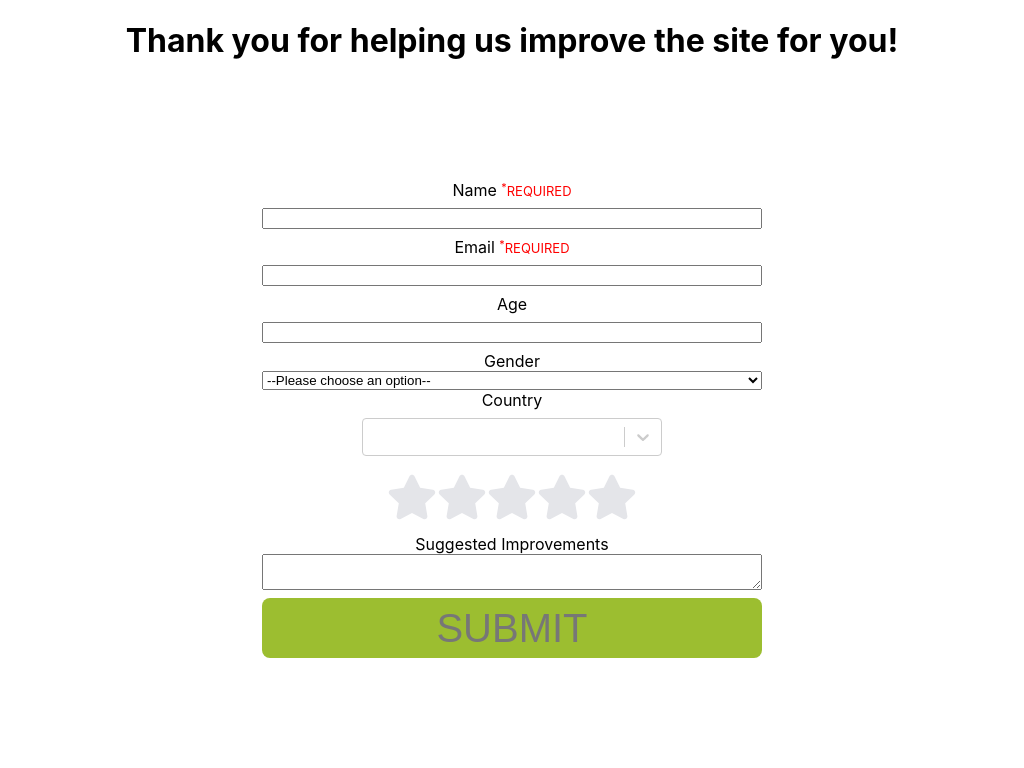
Test: Survey testing › should show error messages if the email is not entered
The width and height of the screenshot is (1024, 768).
In the field labelled "Name *REQUIRED": (512, 219) [262,208,762,229], type "miguel"
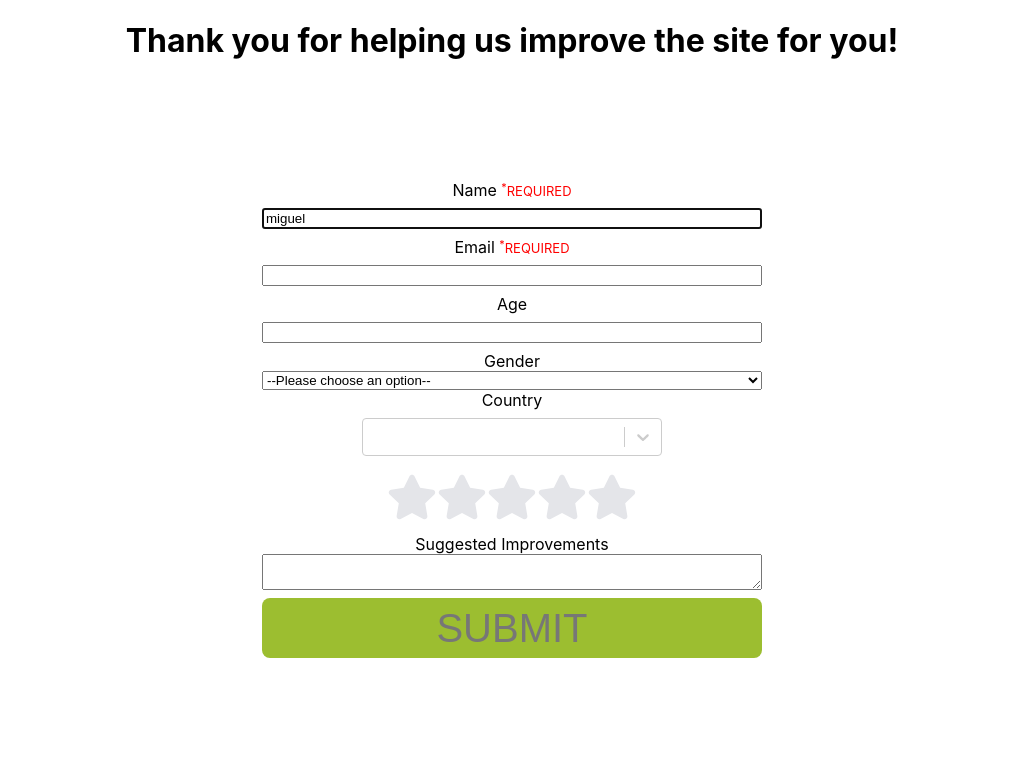
Click the button: click(512, 628) [262,598,762,658]
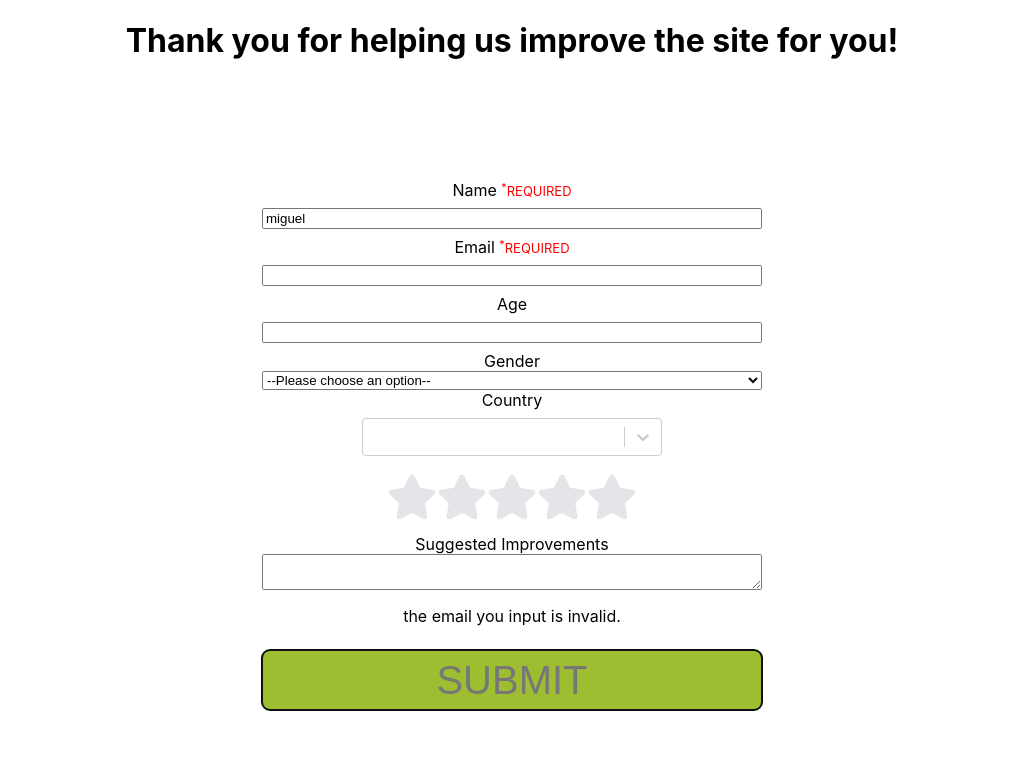
Expected: the text "the email you input is invalid." is shown, [403,606,621,626]
